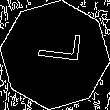L_W: (28, 36, 82, 74)
